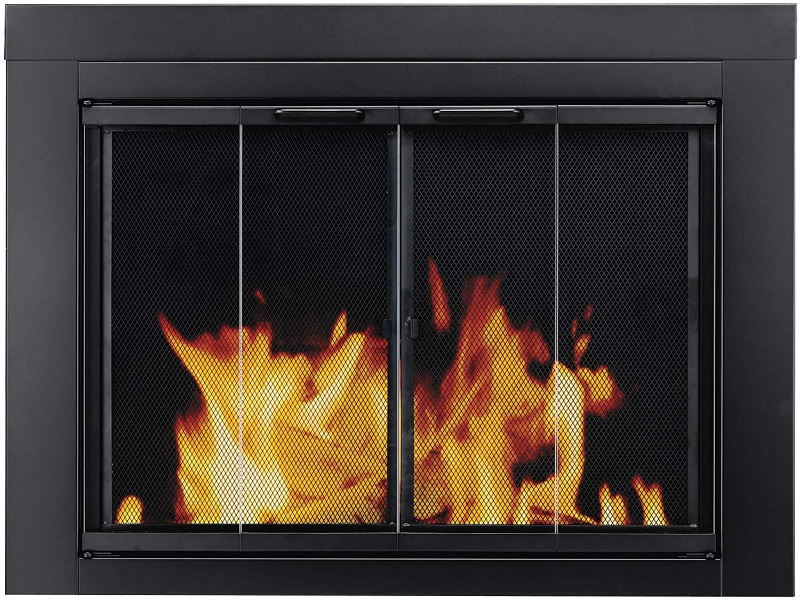fire: (163, 275, 669, 525), (114, 490, 144, 526)
